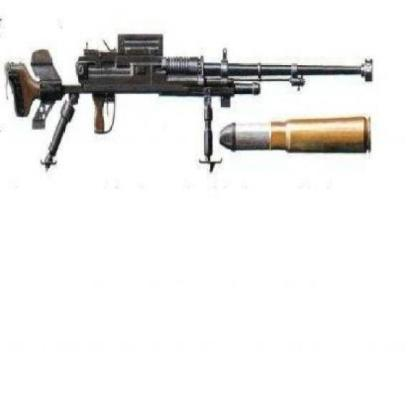Gun: (4, 28, 389, 166)
